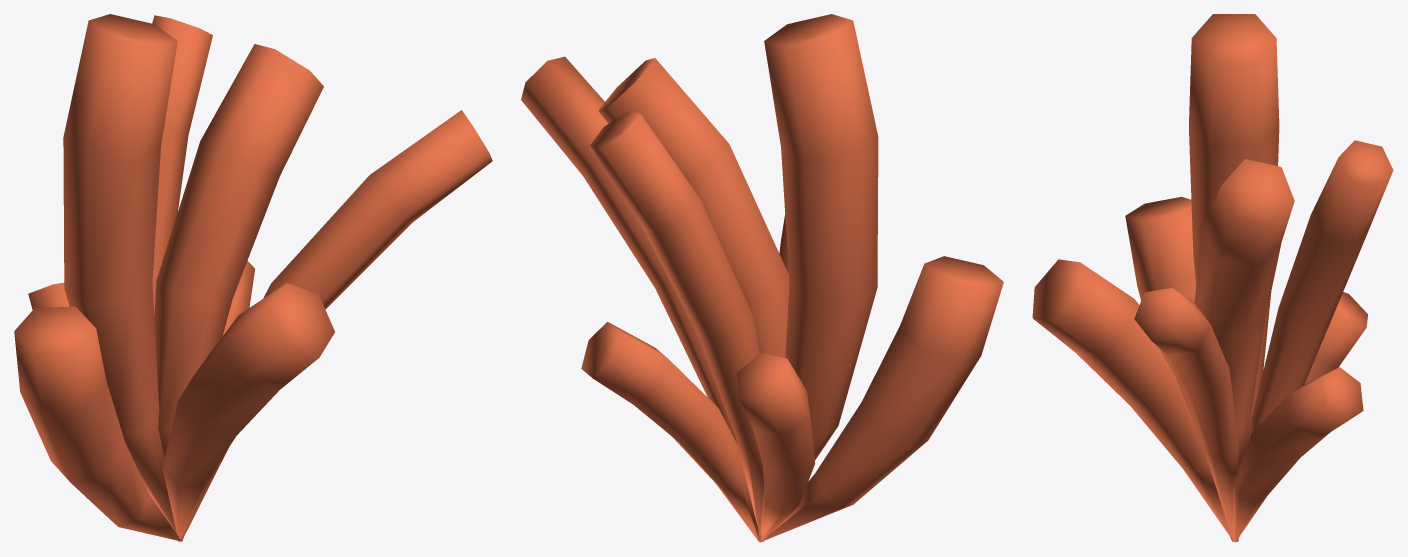
The model's file is Fingersponge01.fbx.
The picture shows the model from 3 angles, left to right: view 1: azimuth 30°, elevation 25°; view 2: azimuth 150°, elevation 25°; view 3: azimuth 270°, elevation 25°; orthographic projection. The views are drawn at different scales.
Visible parts, largest first — view 1: FingerSponge01; view 2: FingerSponge01; view 3: FingerSponge01.
Boxes of the visible parts, left/top/right/bottom form: FingerSponge01: left=14, top=14, right=492, bottom=542; FingerSponge01: left=521, top=14, right=1003, bottom=542; FingerSponge01: left=1032, top=14, right=1393, bottom=542.
Bounding box in the file's own units: 1704 × 1867 × 1241.
